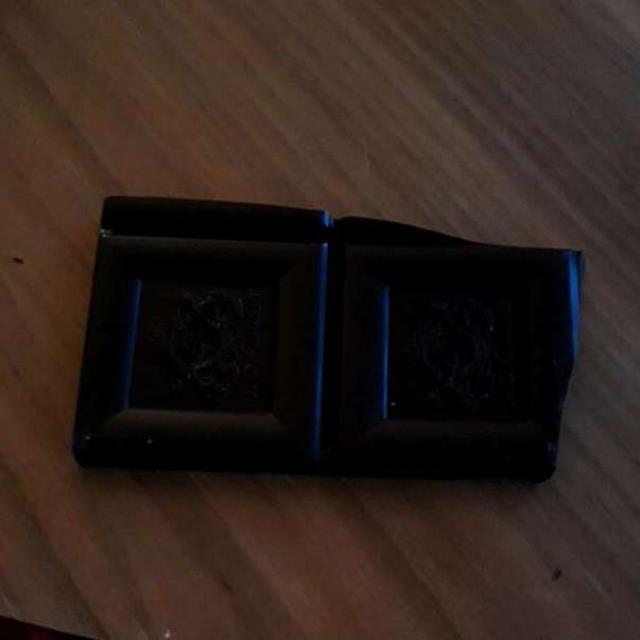chocolate: (78, 195, 583, 475)
